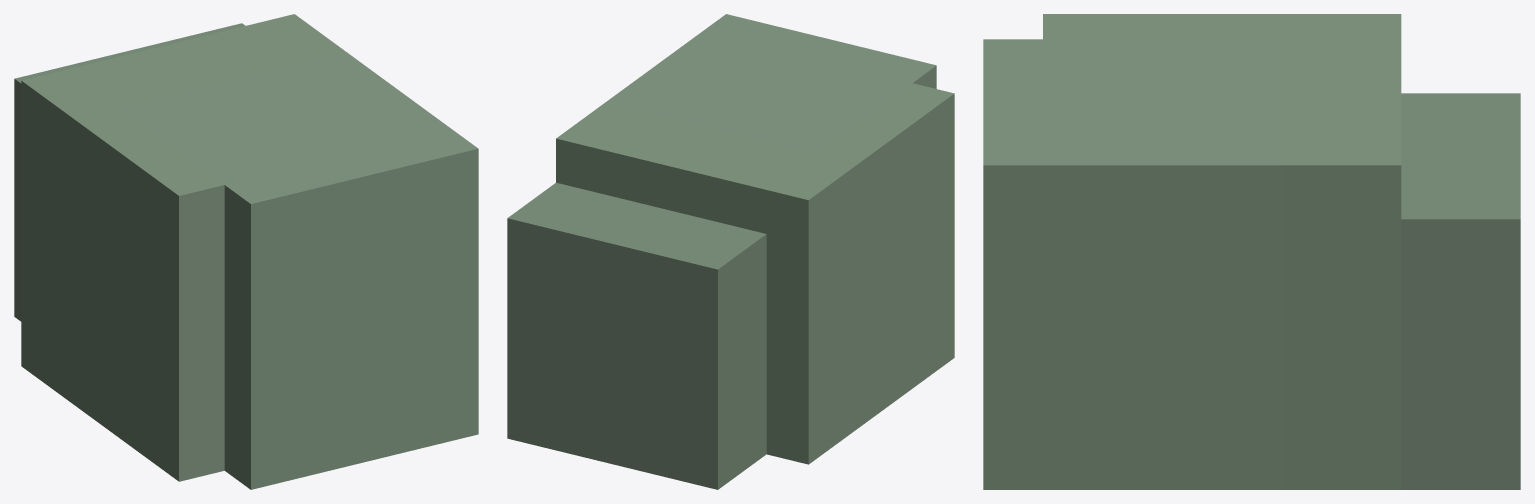
Rendered from roca_musgosa_04.glb.
3 views of the same model, side by side, from view 1: azimuth 30°, elevation 25°; view 2: azimuth 150°, elevation 25°; view 3: azimuth 270°, elevation 25° (orthographic). The views are drawn at different scales.
Parts seen in each view (by area): view 1: roca_musgosa_04; view 2: roca_musgosa_04; view 3: roca_musgosa_04.
Boxes of the visible parts, x1,y1,x2,y2 form: roca_musgosa_04: [14, 14, 478, 489]; roca_musgosa_04: [507, 14, 954, 489]; roca_musgosa_04: [983, 14, 1520, 489].
Size of the model in its own units: 0.6 by 0.6 by 0.9.
